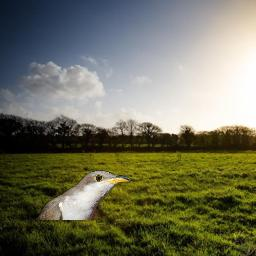Cuckoo: (38, 170, 131, 220)
